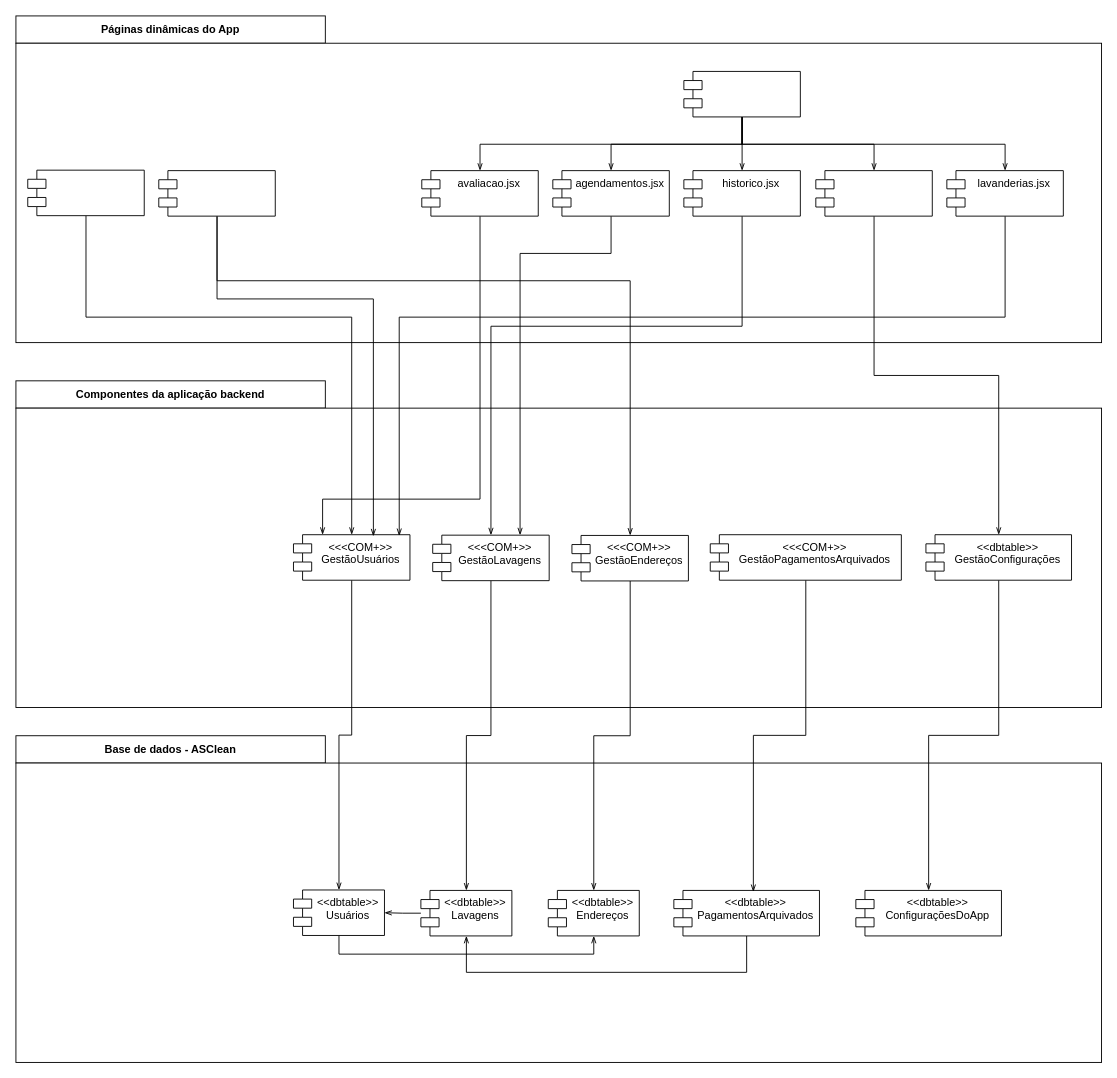
Image size: 1117x1078. Some labels were removed from this diagram. Each missing label, with the centre of its shape:
"cadastro.jsx" belongs at (216,193).
"inicio.jsx" belongs at (741,94).
"login.jsx" belongs at (85,192).
"menu.jsx" belongs at (873,193).
